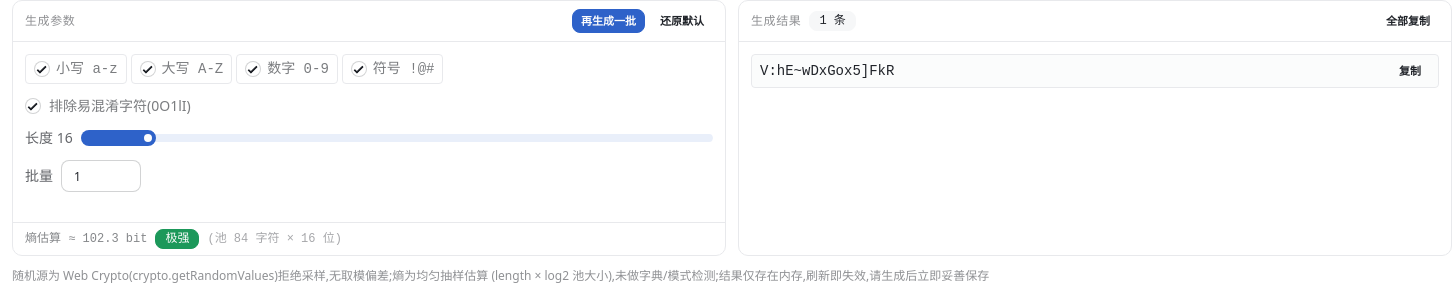
Test: PasswordGenerator 交互 › 熵估算随长度变化展示
expect the element with test id "pwd-strength" shows "102.3": met, box [25,232,147,246]
expect the element with test id "pwd-strength" shows "极强": met, box [165,232,189,246]
Set the slider with test id "pwd-length" to "8". click: (109, 138)
box: [81,130,713,146]
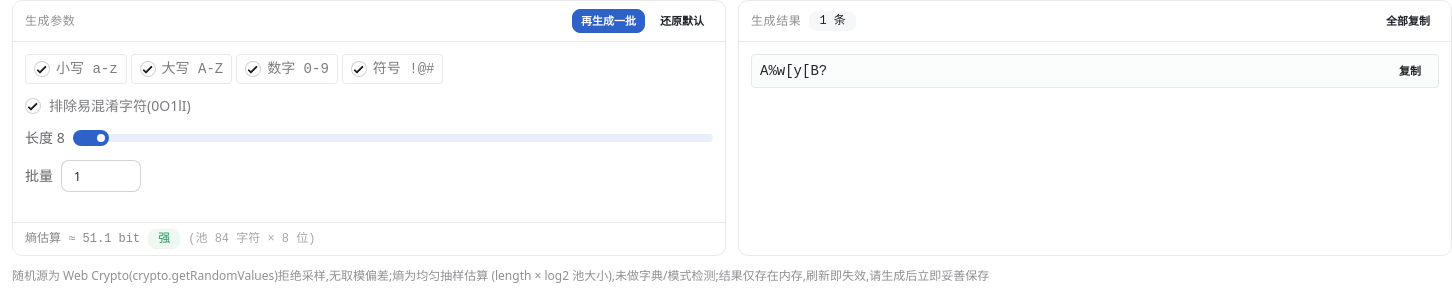
expect the element with test id "pwd-strength" shows "51.1": met, box [25,232,140,246]
